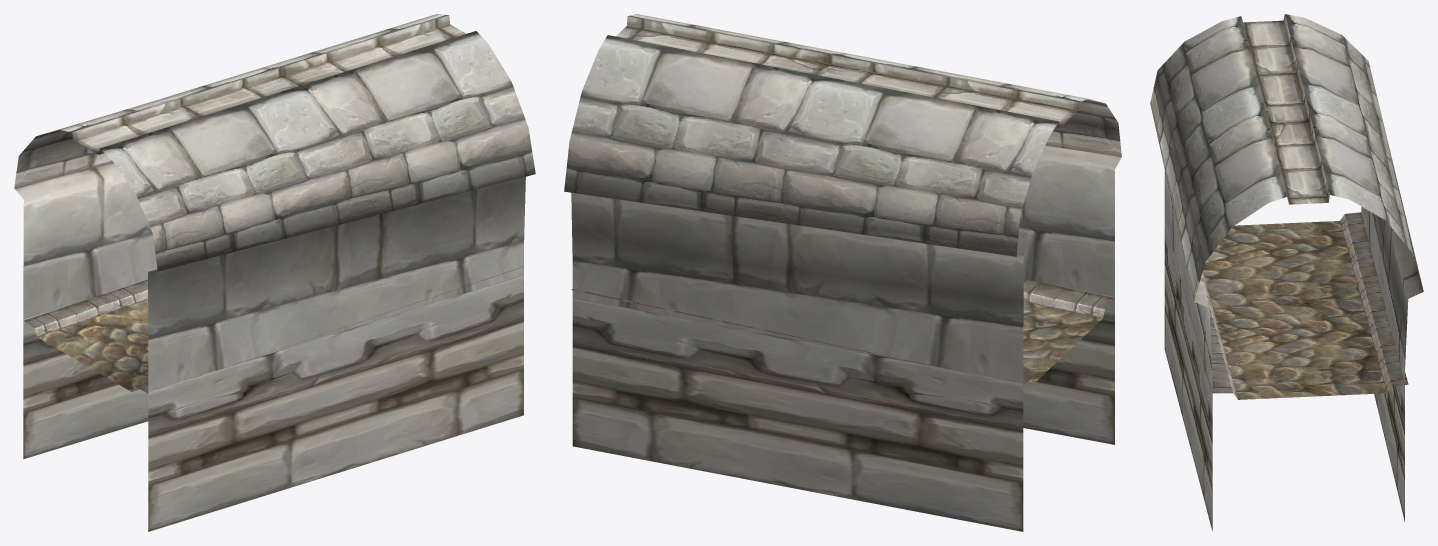
File: stormwind_027.fbx
3 renders of one model, left to right at view 1: azimuth 30°, elevation 25°; view 2: azimuth 150°, elevation 25°; view 3: azimuth 270°, elevation 25°, orthographic. The views are drawn at different scales.
Parts seen in each view (by area): view 1: stormwind_027_11, stormwind_027_4, stormwind_027_5, stormwind_027_46, stormwind_027_12; view 2: stormwind_027_11, stormwind_027_4, stormwind_027_5, stormwind_027_46, stormwind_027_12; view 3: stormwind_027_4, stormwind_027_46, stormwind_027_11, stormwind_027_5, stormwind_027_12.
Part boxes in pixels (x1,y1,x2,y2): stormwind_027_11: [14, 162, 525, 531]; stormwind_027_4: [14, 14, 535, 271]; stormwind_027_5: [72, 15, 466, 154]; stormwind_027_46: [37, 300, 148, 391]; stormwind_027_12: [24, 266, 523, 392]; stormwind_027_11: [571, 145, 1121, 531]; stormwind_027_4: [564, 14, 1121, 256]; stormwind_027_5: [616, 16, 1079, 128]; stormwind_027_46: [1023, 302, 1102, 383]; stormwind_027_12: [571, 279, 1114, 384]; stormwind_027_4: [1150, 14, 1422, 301]; stormwind_027_46: [1203, 221, 1386, 399]; stormwind_027_11: [1164, 171, 1423, 531]; stormwind_027_5: [1243, 14, 1329, 204]; stormwind_027_12: [1173, 212, 1408, 398].
Size of the model in its own units: 19.83 by 15.95 by 11.92.
